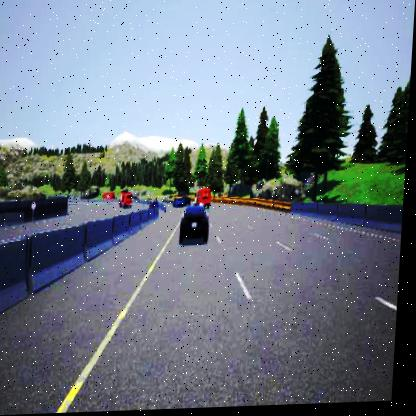vehicle: (182, 205, 212, 243), (195, 188, 214, 208), (164, 196, 193, 208), (121, 193, 136, 210)
